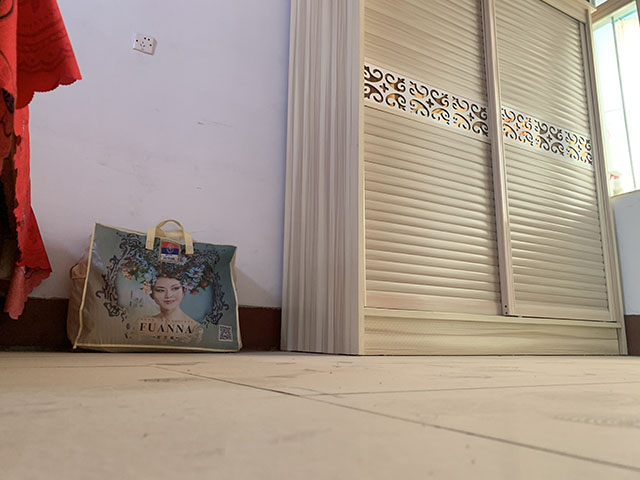cabinet: (279, 1, 630, 357)
